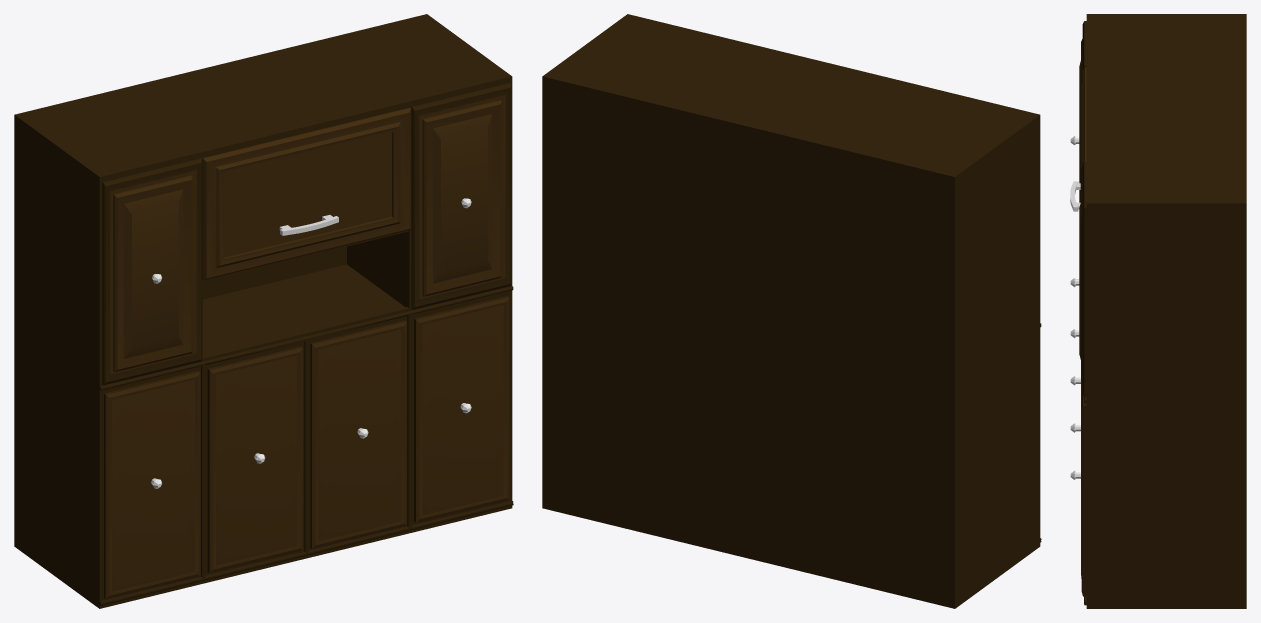
File: Large wardrobe.fbx
3 renders of one model, left to right at view 1: azimuth 30°, elevation 25°; view 2: azimuth 150°, elevation 25°; view 3: azimuth 270°, elevation 25°, orthographic. The views are drawn at different scales.
Visible parts, largest first — view 1: Skaf_bolshoy; view 2: Skaf_bolshoy; view 3: Skaf_bolshoy.
Boxes of the visible parts, <box> form: Skaf_bolshoy: <box>14,14,513,608</box>; Skaf_bolshoy: <box>542,14,1041,608</box>; Skaf_bolshoy: <box>1070,14,1246,608</box>.
Size of the model in its own units: 595 by 595 by 235.
